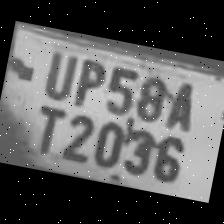0: (87, 112, 126, 171)
2: (56, 106, 96, 165)
3: (118, 122, 156, 179)
5: (96, 60, 141, 118)
6: (146, 131, 190, 188)
8: (130, 69, 172, 125)
A: (160, 74, 204, 134)
P: (66, 53, 108, 110)
T: (22, 99, 67, 158)
U: (35, 43, 80, 103)
